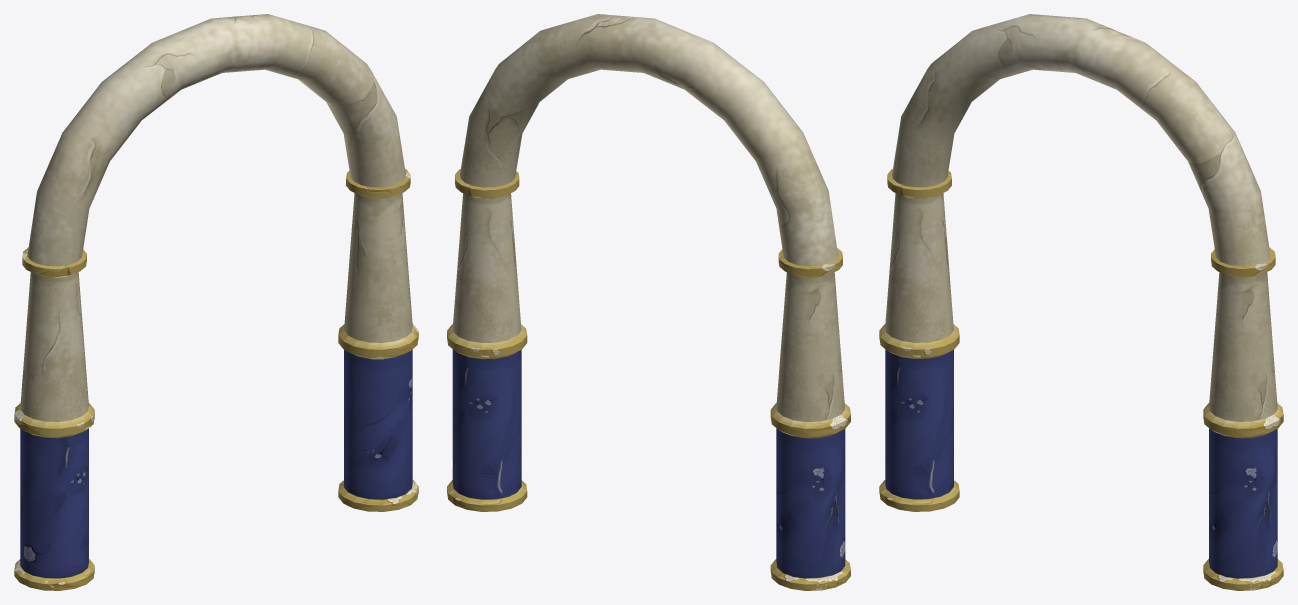
File: Arco.FBX
The picture shows the model from 3 angles, left to right: view 1: azimuth 30°, elevation 25°; view 2: azimuth 150°, elevation 25°; view 3: azimuth 330°, elevation 25°; orthographic projection.
Visible parts, largest first — view 1: Antonio_Bueno_Arco_Quads; view 2: Antonio_Bueno_Arco_Quads; view 3: Antonio_Bueno_Arco_Quads.
Boxes of the visible parts, x1,y1,x2,y2 form: Antonio_Bueno_Arco_Quads: (14, 14, 418, 590); Antonio_Bueno_Arco_Quads: (447, 14, 850, 590); Antonio_Bueno_Arco_Quads: (879, 14, 1283, 590).
Size of the model in its own units: 391 by 487 by 69.46.
